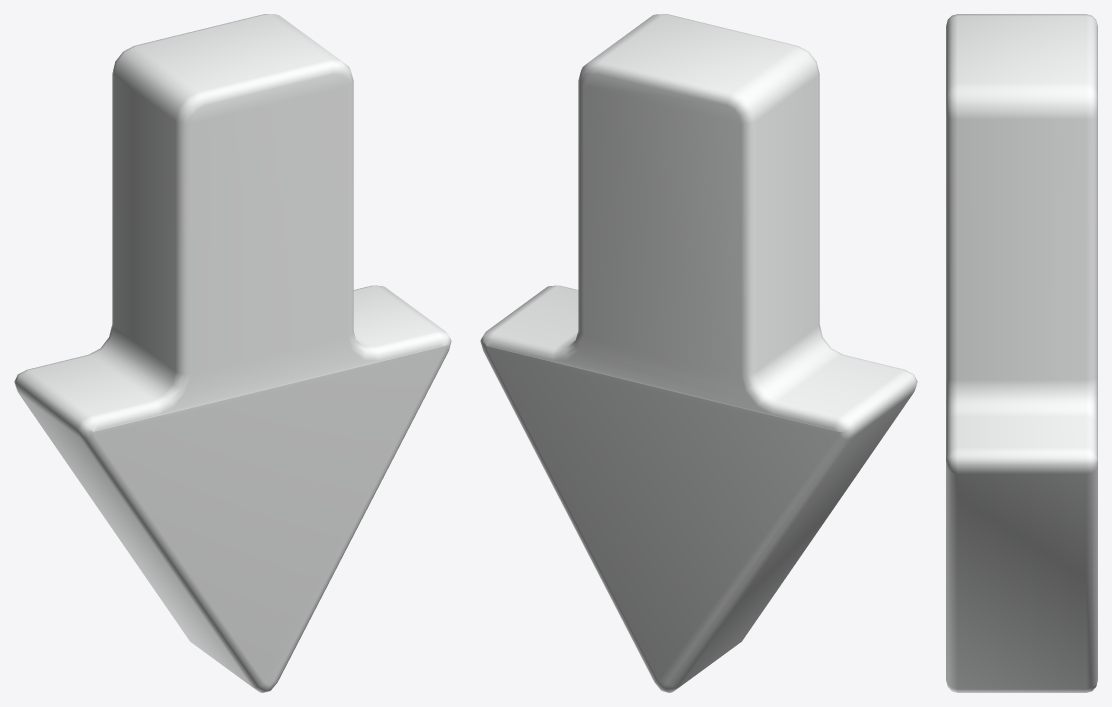
The model's file is guideArrow.fbx.
The picture shows the model from 3 angles, left to right: view 1: azimuth 30°, elevation 25°; view 2: azimuth 150°, elevation 25°; view 3: azimuth 270°, elevation 25°; orthographic projection. The views are drawn at different scales.
Visible parts, largest first — view 1: arrow; view 2: arrow; view 3: arrow.
Boxes of the visible parts, box(x1,y1,x2,y2) form: arrow: box(14, 14, 451, 692); arrow: box(480, 14, 917, 692); arrow: box(946, 14, 1097, 692).
Bounding box in the file's own units: 23.6 × 37.23 × 7.99.
